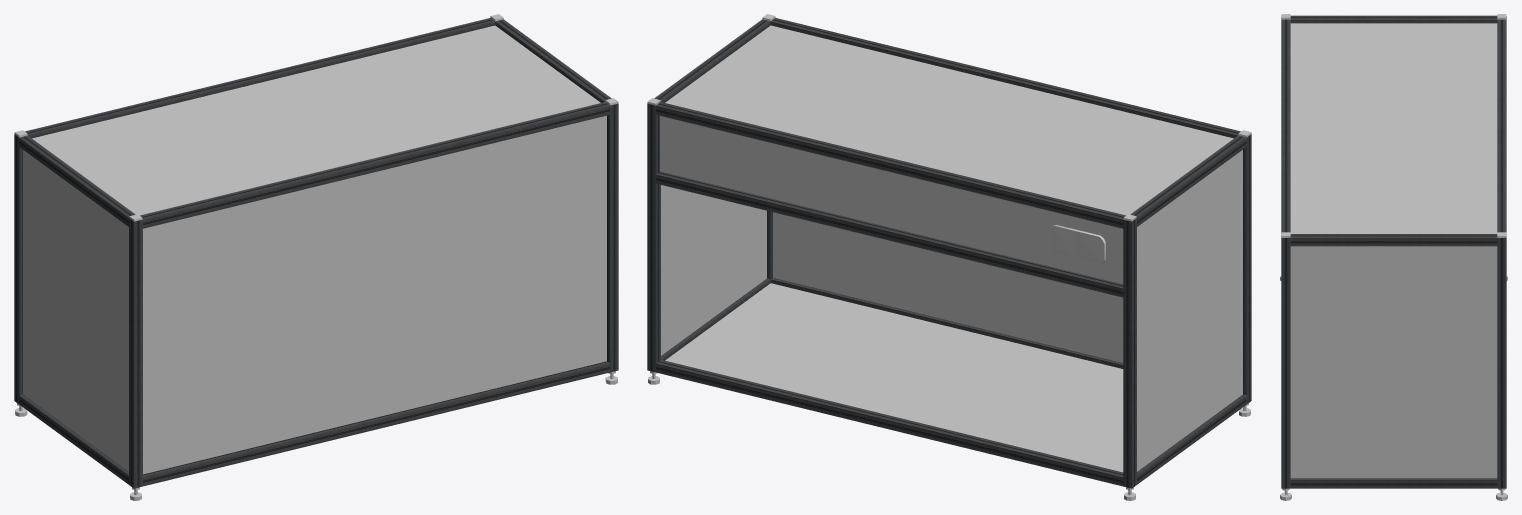
File: stol.FBX
3 renders of one model, left to right at view 1: azimuth 30°, elevation 25°; view 2: azimuth 150°, elevation 25°; view 3: azimuth 270°, elevation 25°, orthographic. The views are drawn at different scales.
Parts seen in each view (by area): view 1: stol, stoleshnica, karkas, nogki; view 2: stol, stoleshnica, karkas, nogki; view 3: stol, stoleshnica, karkas, nogki.
Boxes of the visible parts, x1=… form: stol: x1=23, y1=115, x2=606, y2=474; stoleshnica: x1=32, y1=25, x2=600, y2=215; karkas: x1=14, y1=18, x2=618, y2=488; nogki: x1=14, y1=14, x2=618, y2=500; stol: x1=660, y1=116, x2=1242, y2=472; stoleshnica: x1=665, y1=25, x2=1233, y2=215; karkas: x1=647, y1=18, x2=1251, y2=488; nogki: x1=647, y1=14, x2=1251, y2=500; stol: x1=1290, y1=246, x2=1497, y2=478; stoleshnica: x1=1290, y1=23, x2=1497, y2=233; karkas: x1=1281, y1=15, x2=1506, y2=488; nogki: x1=1280, y1=14, x2=1507, y2=500.
Bounding box in the file's own units: 37 × 20.44 × 15.95.
